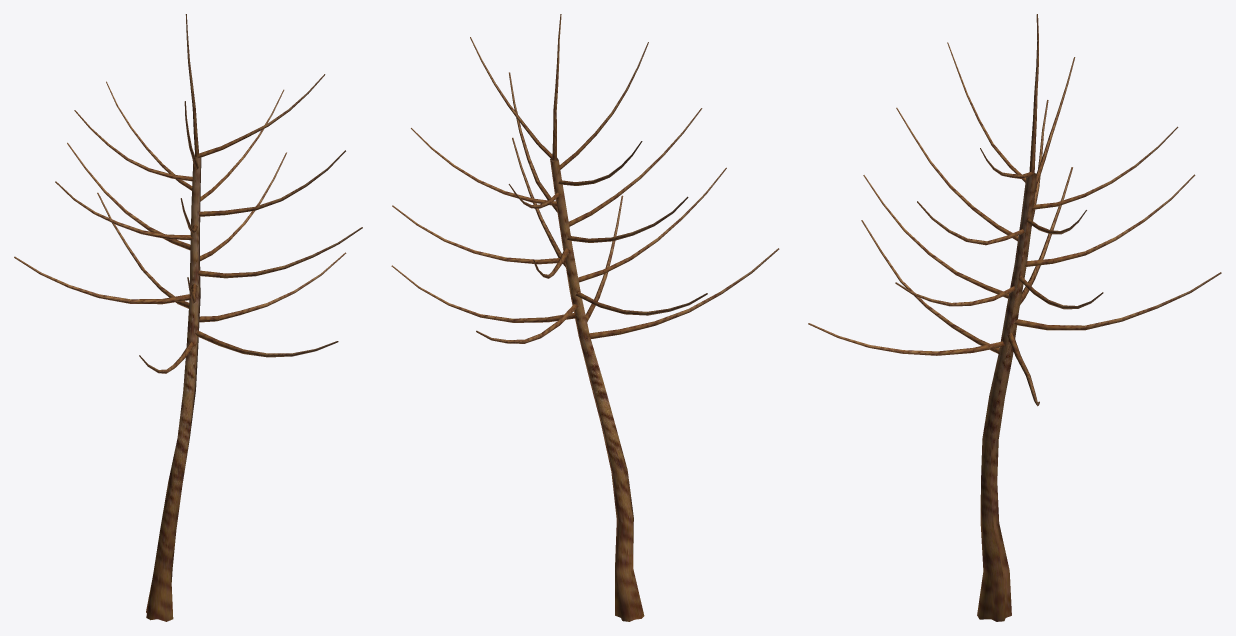
File: drzewo2.FBX
3 views of the same model, side by side, from view 1: azimuth 30°, elevation 25°; view 2: azimuth 150°, elevation 25°; view 3: azimuth 270°, elevation 25° (orthographic). The views are drawn at different scales.
Parts seen in each view (by area): view 1: Foliage001; view 2: Foliage001; view 3: Foliage001.
Boxes of the visible parts, x1,y1,x2,y2 form: Foliage001: (14, 14, 362, 621); Foliage001: (391, 14, 779, 621); Foliage001: (808, 14, 1221, 621).
Size of the model in its own units: 1.12 by 1.16 by 1.94.
1 material, 1 textured.
